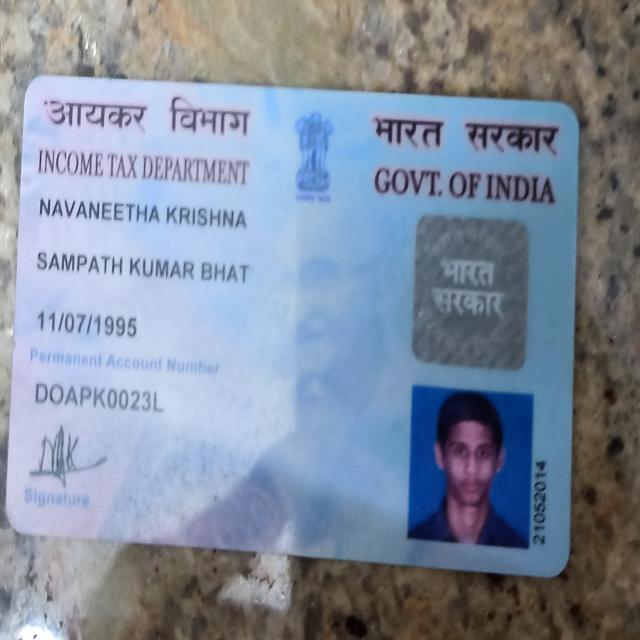pan_card: (8, 77, 574, 571)
